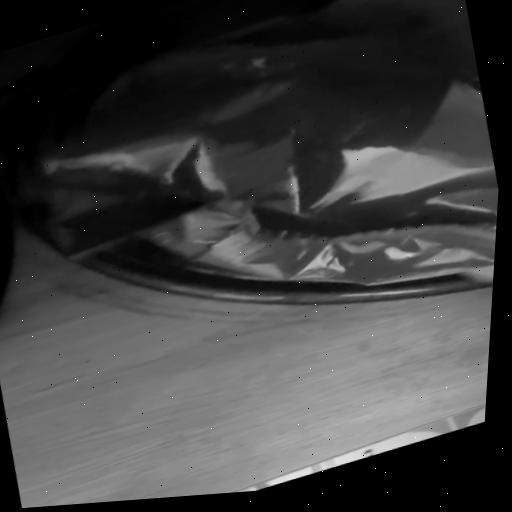cafe_xay: (21, 10, 499, 285)
